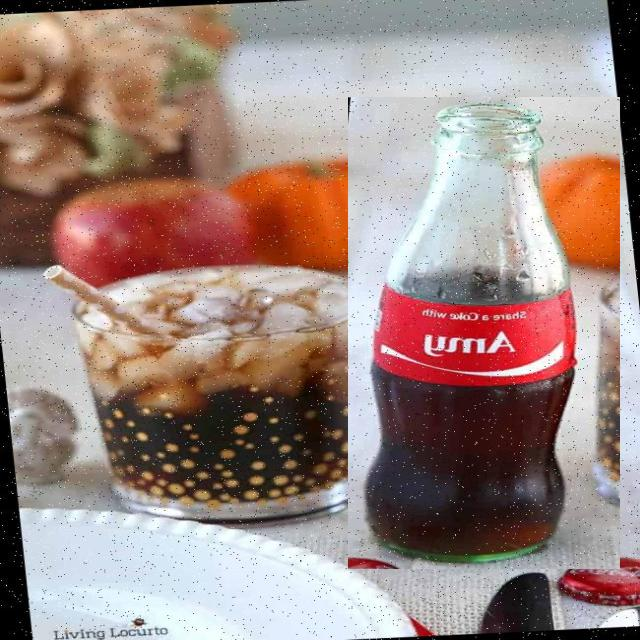coca-cola: (348, 97, 620, 569)
